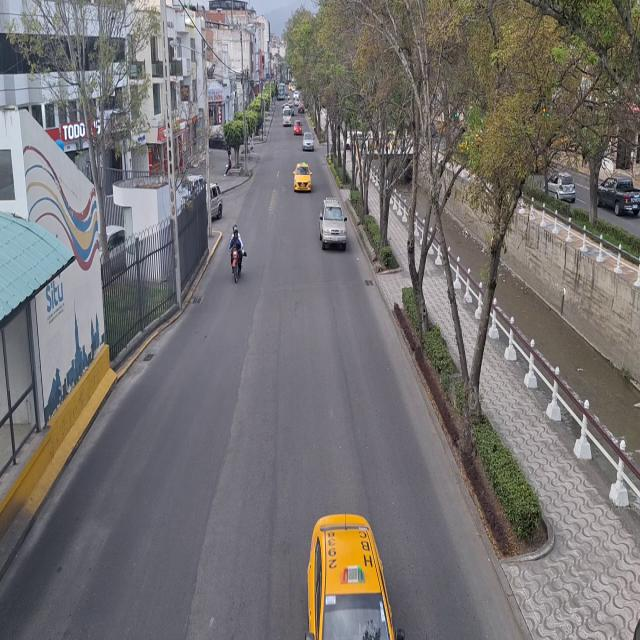CMT: (597, 173, 640, 218)
MOTORCYCLE: (232, 248, 240, 284)
SED: (294, 164, 311, 192)
SUV: (319, 199, 346, 250)
